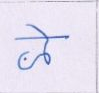o_matra: (39, 24, 52, 64)
